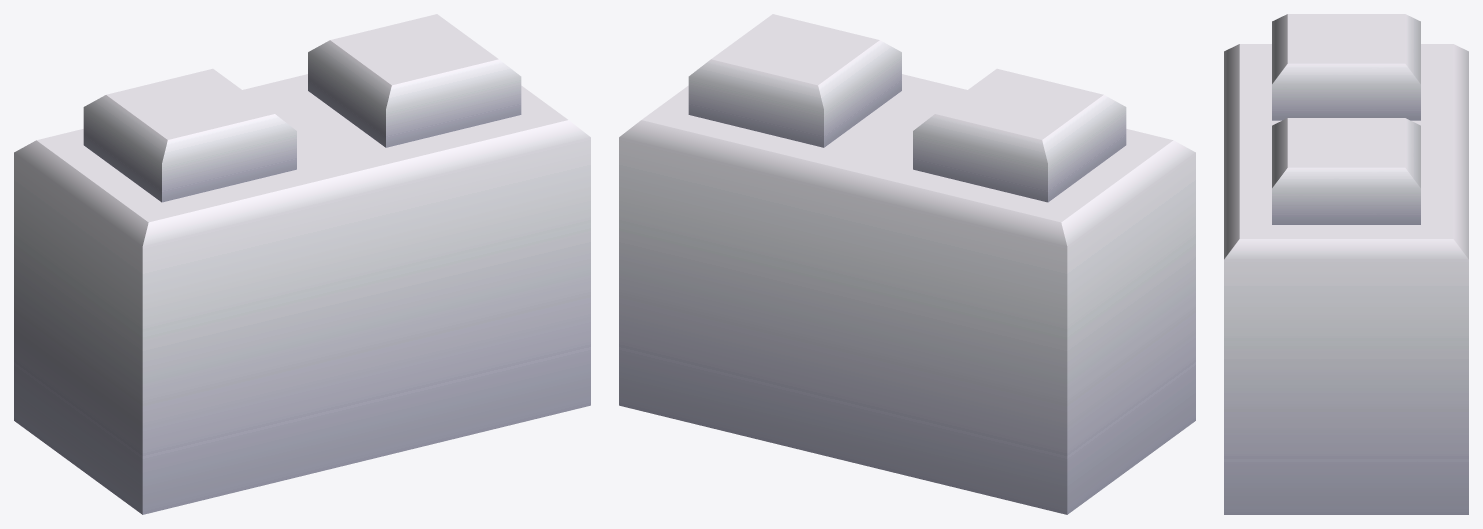
The model's file is square-hq-brick-1x2.glb.
3 views of the same model, side by side, from view 1: azimuth 30°, elevation 25°; view 2: azimuth 150°, elevation 25°; view 3: azimuth 270°, elevation 25° (orthographic). The views are drawn at different scales.
Visible parts, largest first — view 1: square-hq-brick-1x2; view 2: square-hq-brick-1x2; view 3: square-hq-brick-1x2.
Part boxes in pixels (x1=…): square-hq-brick-1x2: x1=14, y1=14, x2=590, y2=514; square-hq-brick-1x2: x1=619, y1=14, x2=1195, y2=514; square-hq-brick-1x2: x1=1224, y1=14, x2=1468, y2=514.
Size of the model in its own units: 0.159 by 0.114 by 0.079.
1 material, 1 textured.
